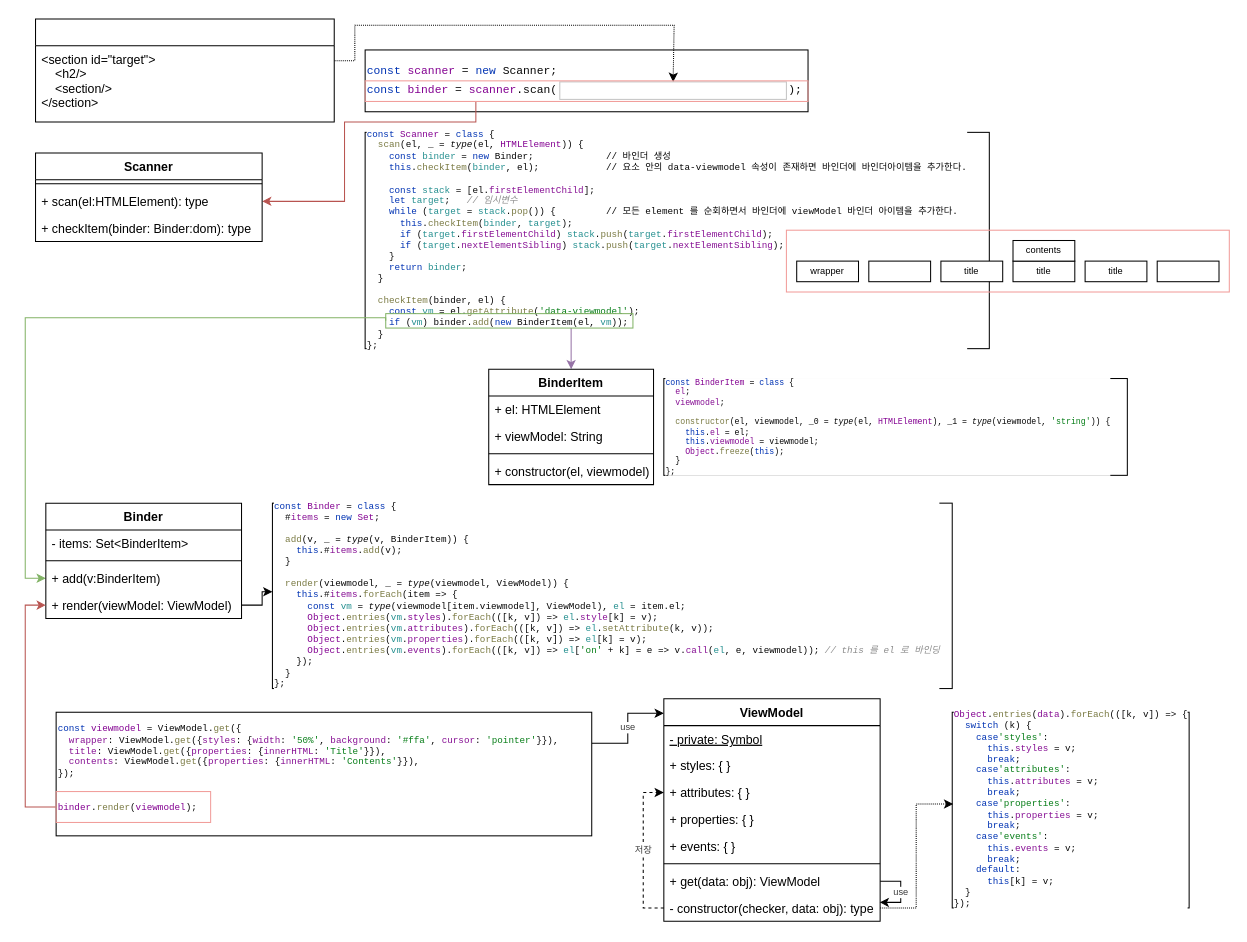
Some shapes in this 1247 by 942 pixel diagram are drawn without their labels. Each missing label, with the centre of its shape:
"document . querySelector ( '#target' )" belongs at pixel 672 90.
"HTMLElement" belongs at pixel 184 70.
